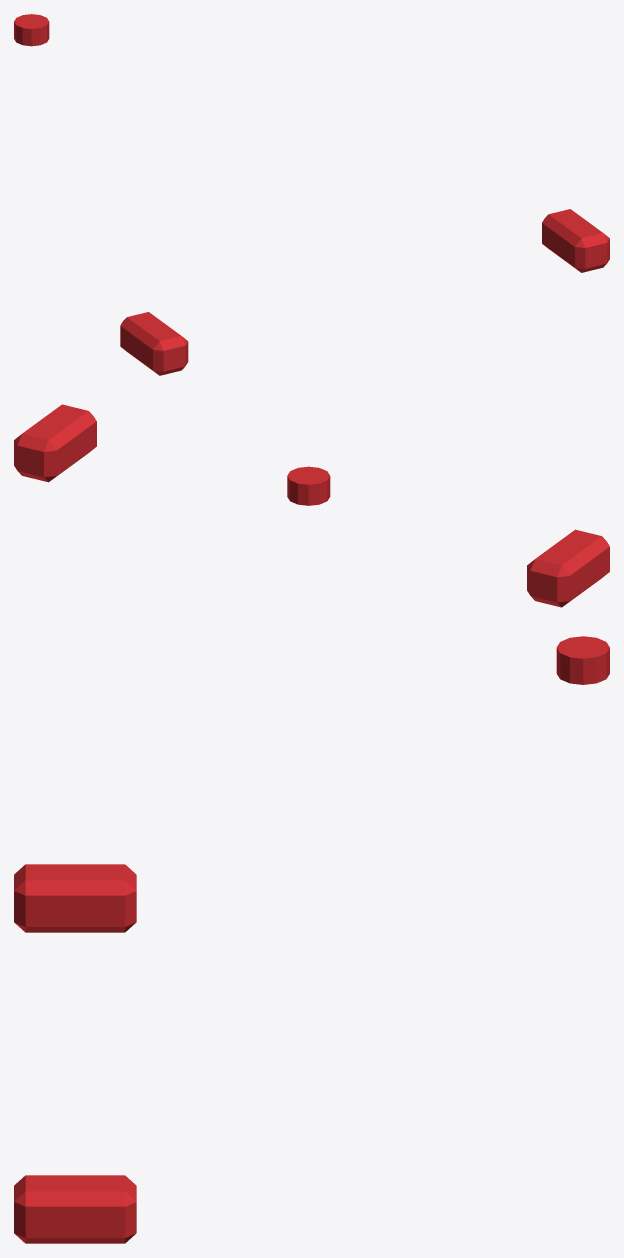
Rendered from drone_body_red.obj.
3 renders of one model, top to bottom at view 1: azimuth 30°, elevation 25°; view 2: azimuth 150°, elevation 25°; view 3: azimuth 270°, elevation 25°, orthographic. The views are drawn at different scales.
Visible parts, largest first — view 1: part_000, part_001, part_002; view 2: part_000, part_001, part_002; view 3: part_000, part_001, part_002.
Part boxes in pixels (x1=…): part_000: x1=120, y1=312, x2=188, y2=375; part_001: x1=542, y1=209, x2=609, y2=272; part_002: x1=14, y1=14, x2=49, y2=46; part_000: x1=527, y1=529, x2=609, y2=607; part_001: x1=14, y1=404, x2=96, y2=482; part_002: x1=287, y1=466, x2=330, y2=505; part_000: x1=14, y1=864, x2=136, y2=932; part_001: x1=14, y1=1175, x2=136, y2=1243; part_002: x1=556, y1=636, x2=609, y2=684.
Bounding box in the file's own units: 1.11 × 0.475 × 0.826.
